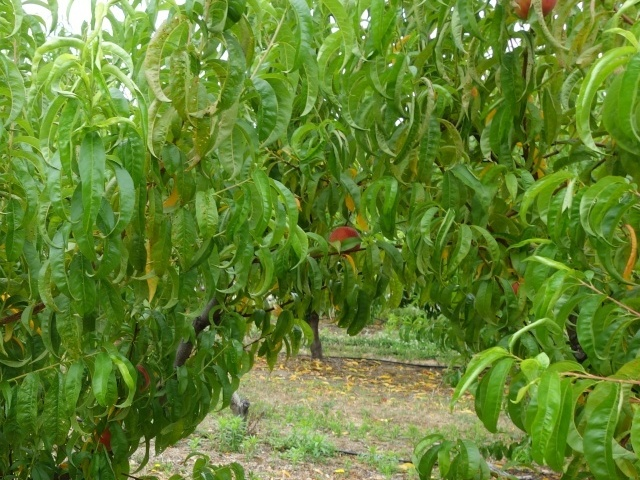peach: (325, 223, 367, 257)
